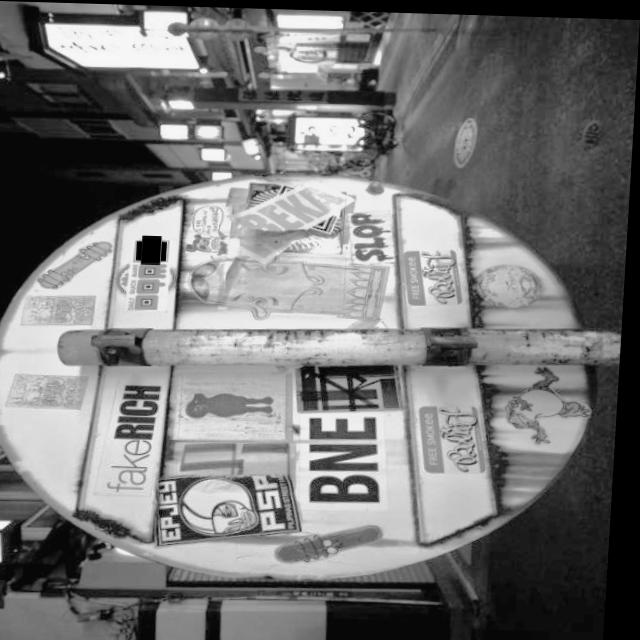qr_code: (141, 237, 168, 261)
